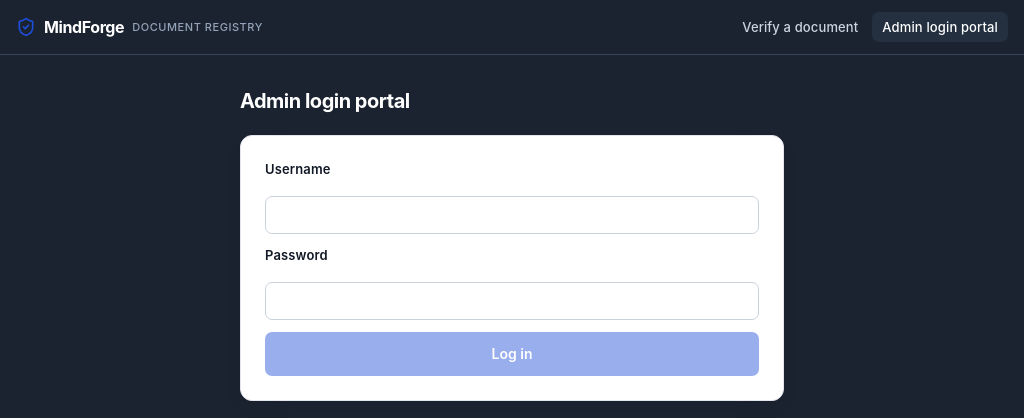
routing and access › returns to the login page when the server ends the session
The image size is (1024, 418).
Step 1. Type "officer" into the field labelled "Username" → (512, 215), box [265, 196, 759, 234]
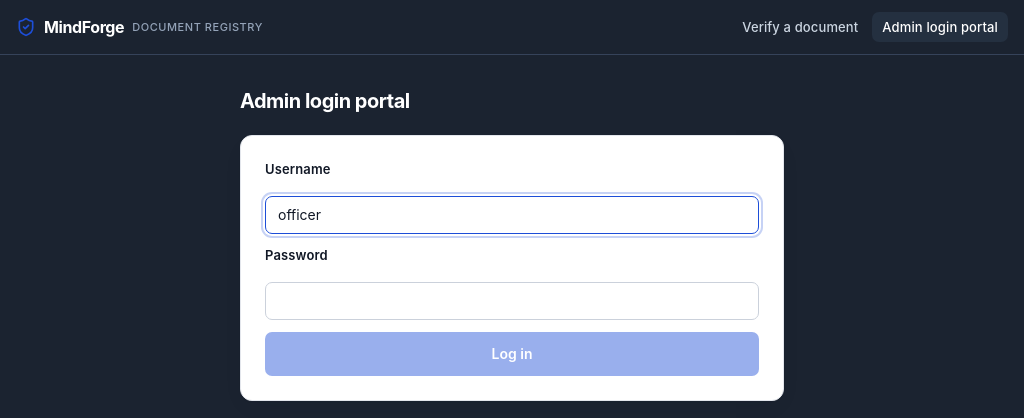
Step 2. Type "correct horse" into the password field labelled "Password" → (512, 301), box [265, 282, 759, 320]
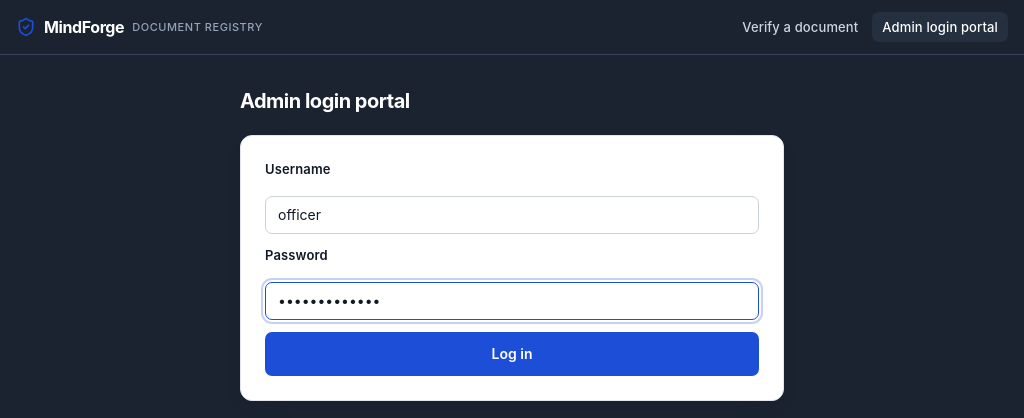
Step 3. Click the button "Log in" → (512, 354), box [265, 332, 759, 376]
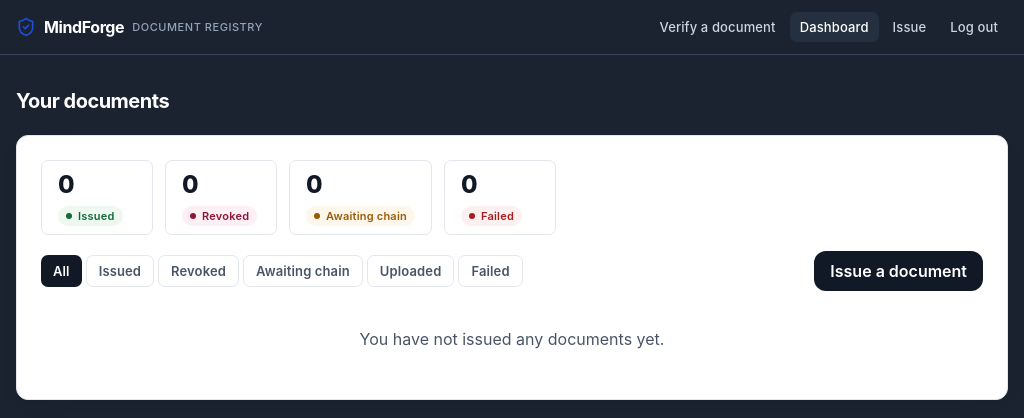
Expected: the heading "Your documents" is shown, [16, 89, 169, 113]
Step 4. Click the button "Failed" → (491, 271), box [458, 255, 523, 287]
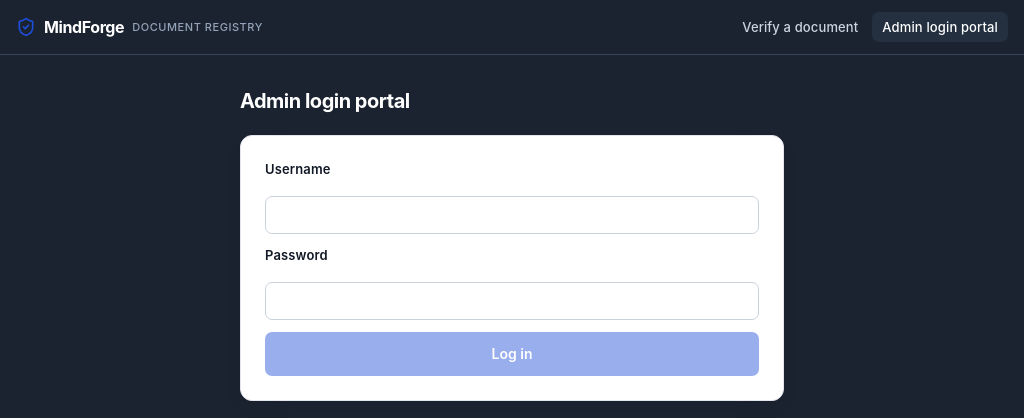
Expected: the heading "Admin login portal" is shown, [240, 89, 410, 113]
